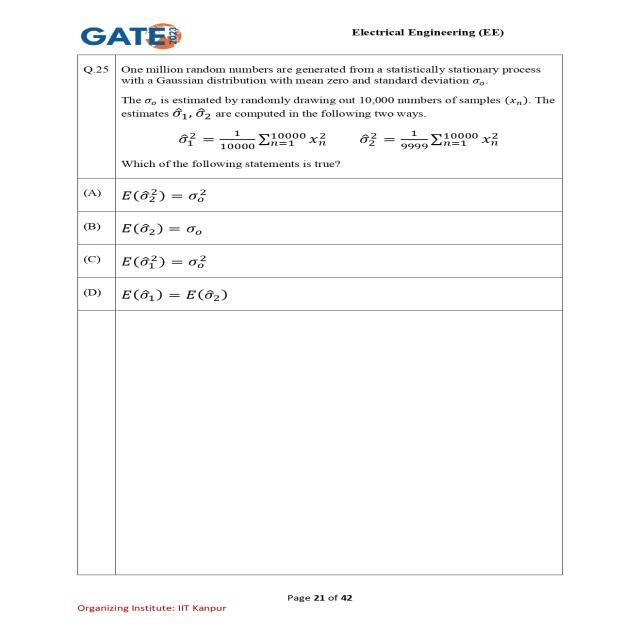Answer_Block: (47, 184, 589, 320)
Question_Answer_Block: (47, 59, 589, 319)
Question_Block: (47, 59, 589, 181)
Question_Paper_Area: (47, 59, 589, 354)
